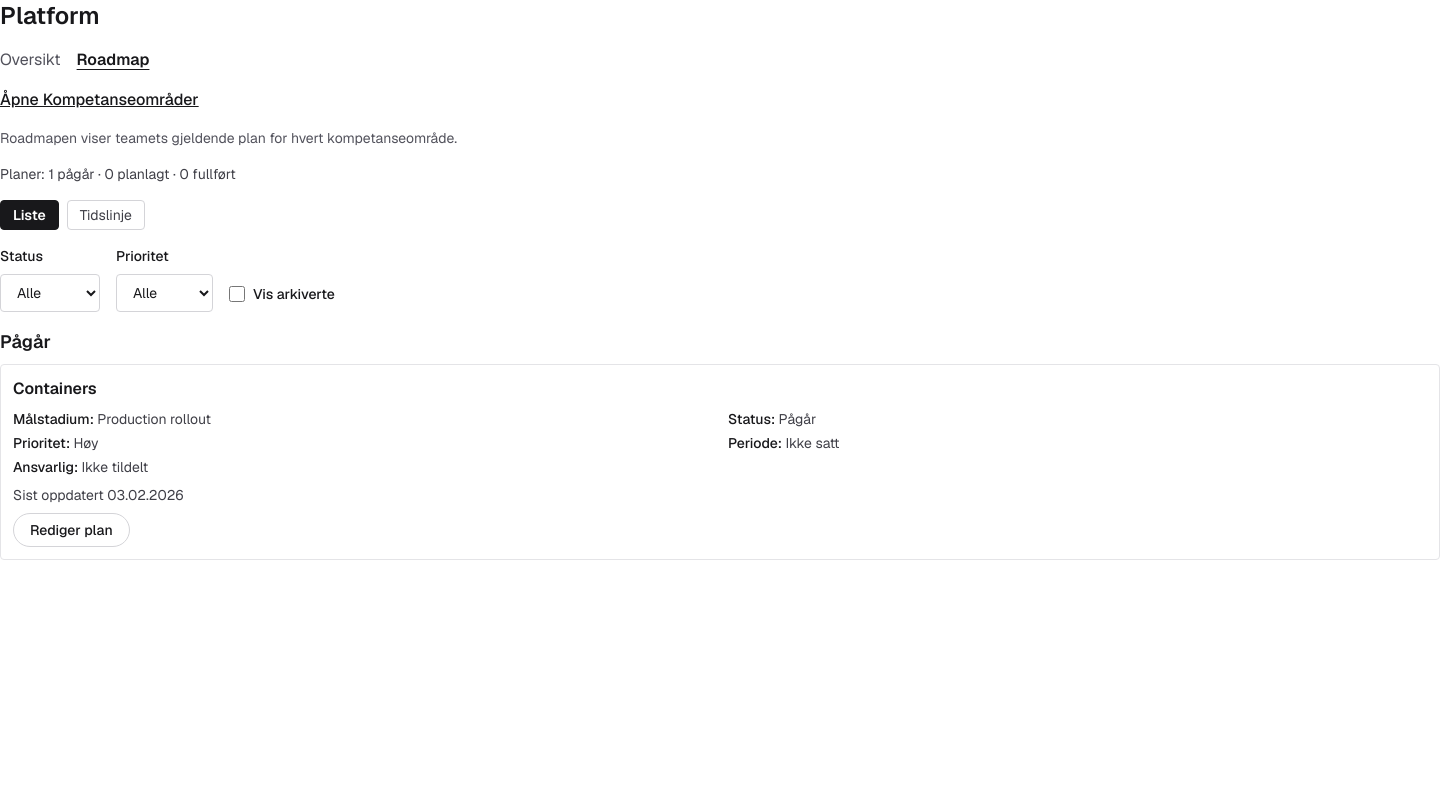
Scenario: Roadmap page edge states — archived plans › hides archived plans by default, reveals them on toggle, and blocks creation either way
The width and height of the screenshot is (1440, 810).
Expected: the heading "Containers" is shown, x1=13 y1=378 x2=97 y2=399
Expected: the heading "Second" is not shown
Click the checkbox labelled "Vis arkiverte" at (237, 294), box x1=229 y1=286 x2=245 y2=302
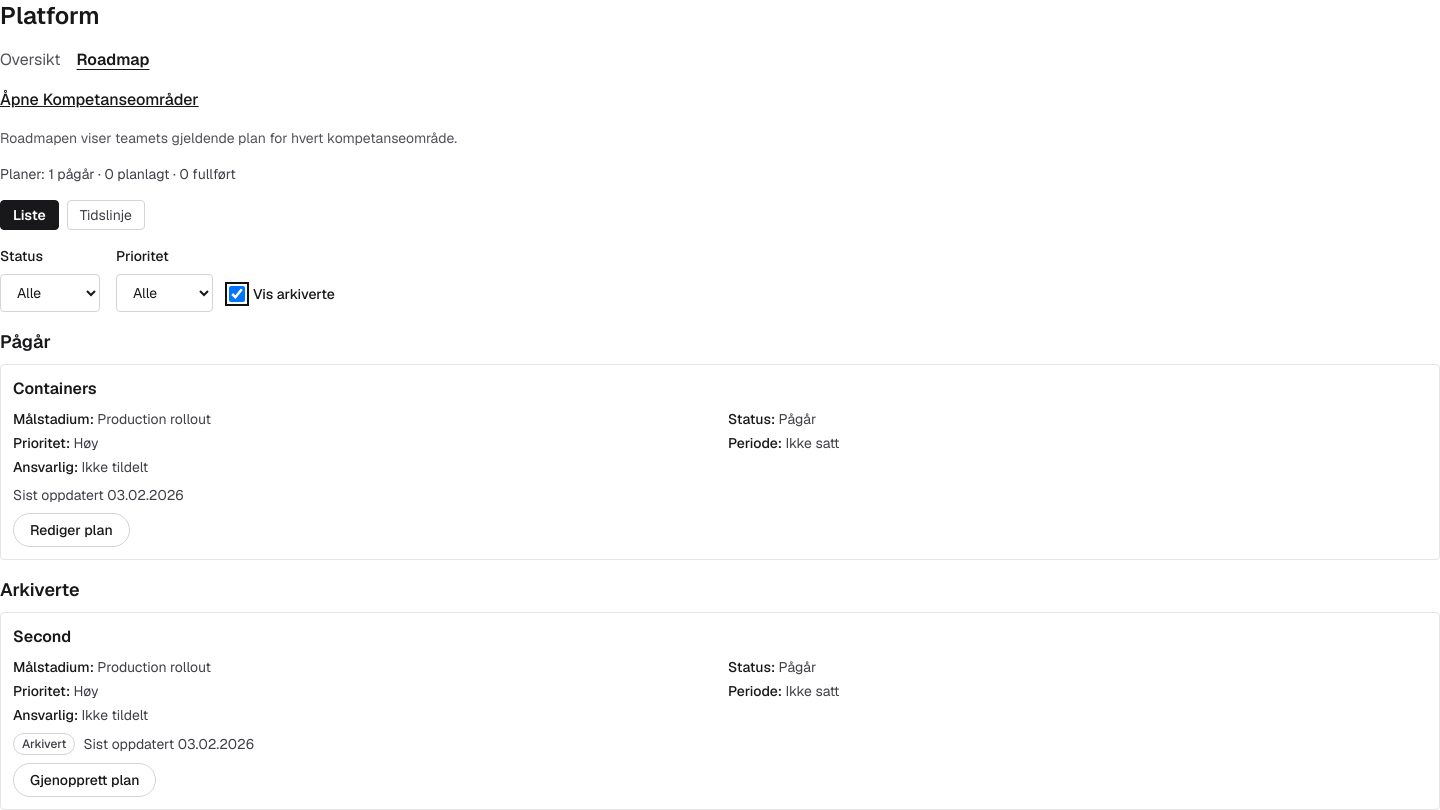
Result: the heading "Second" is shown at x1=13 y1=626 x2=71 y2=647
